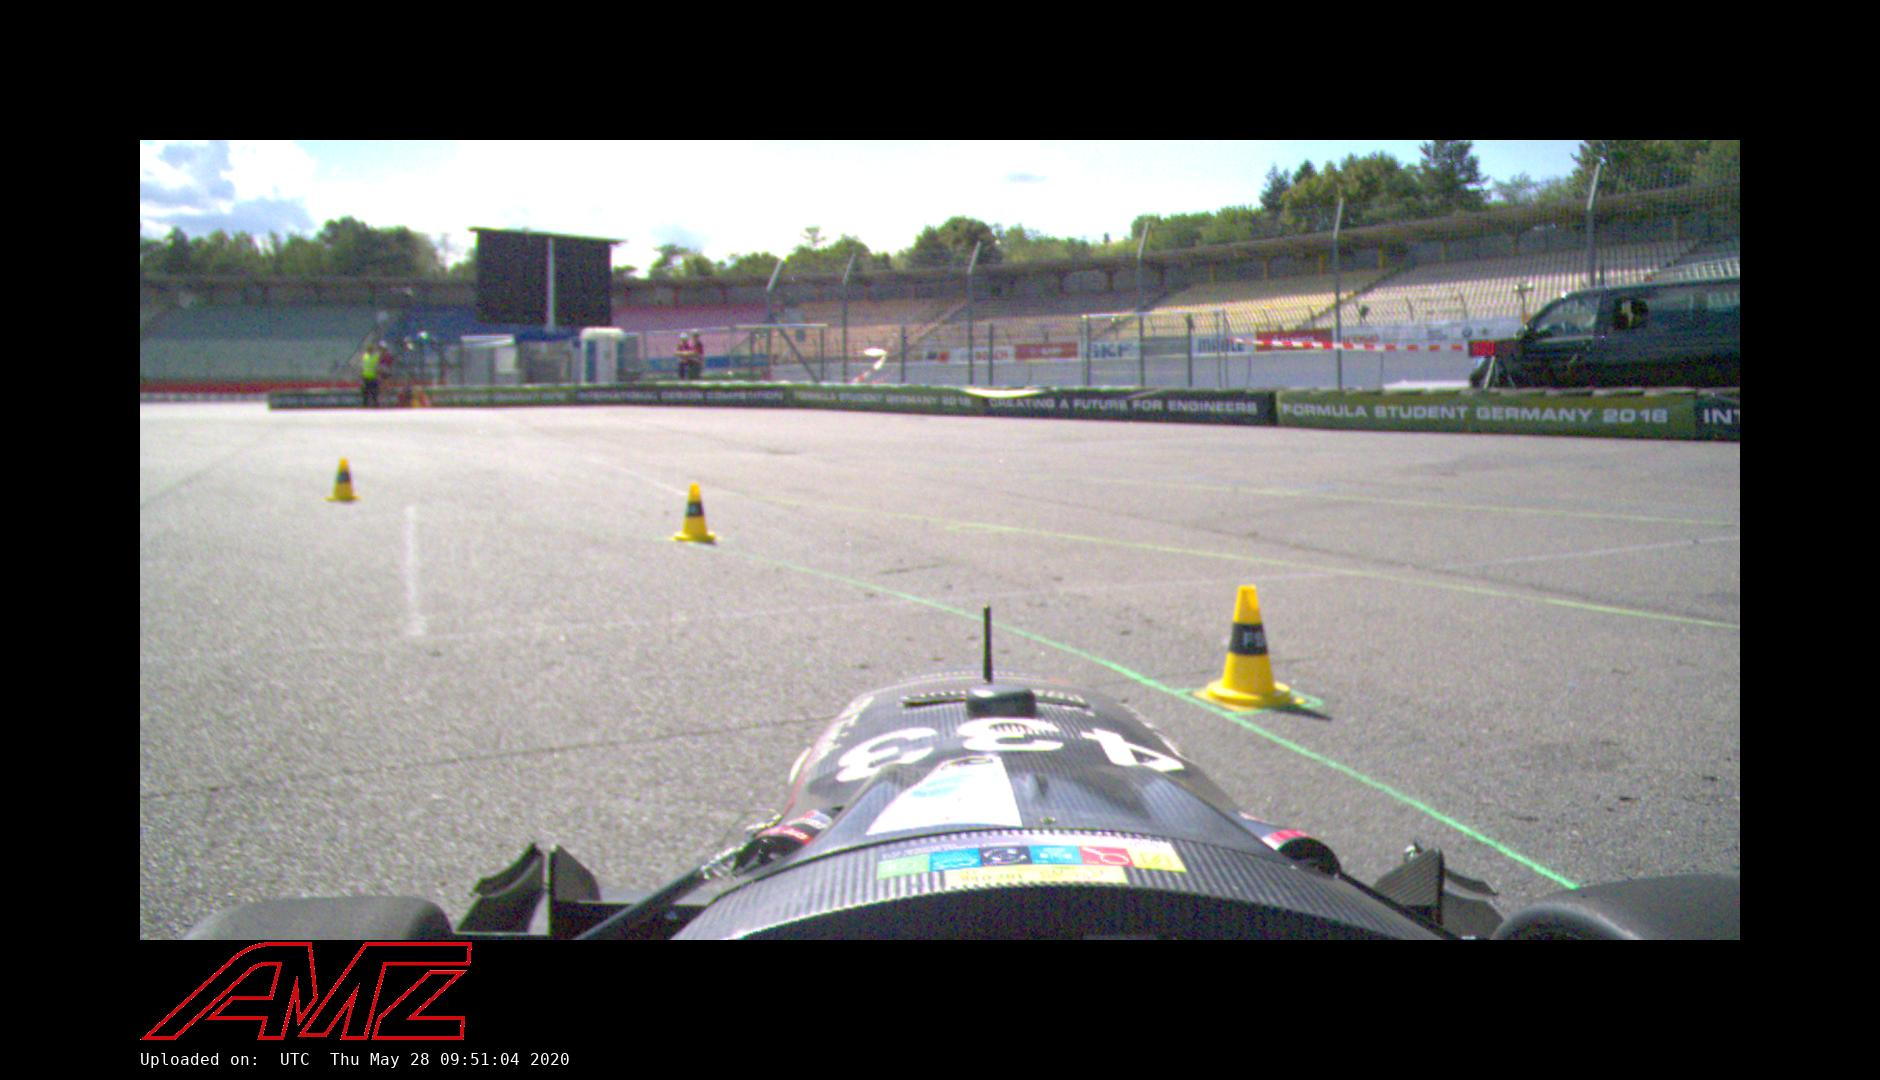yellow_cone: (1200, 581, 1300, 714), (670, 483, 714, 540), (323, 456, 360, 502)
